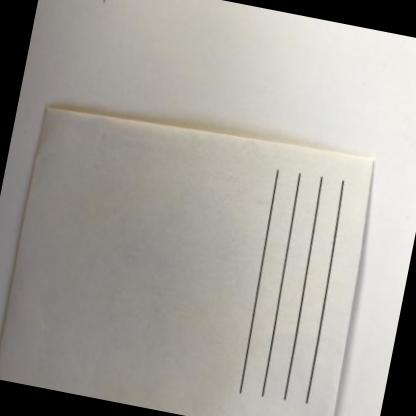Paper: (0, 106, 372, 416)
